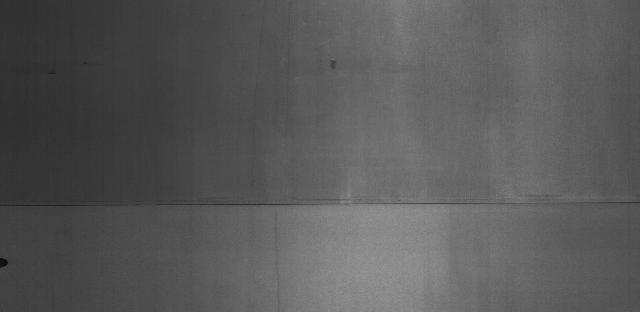punching_hole: (0, 252, 13, 279)
welding_line: (1, 195, 639, 221)
